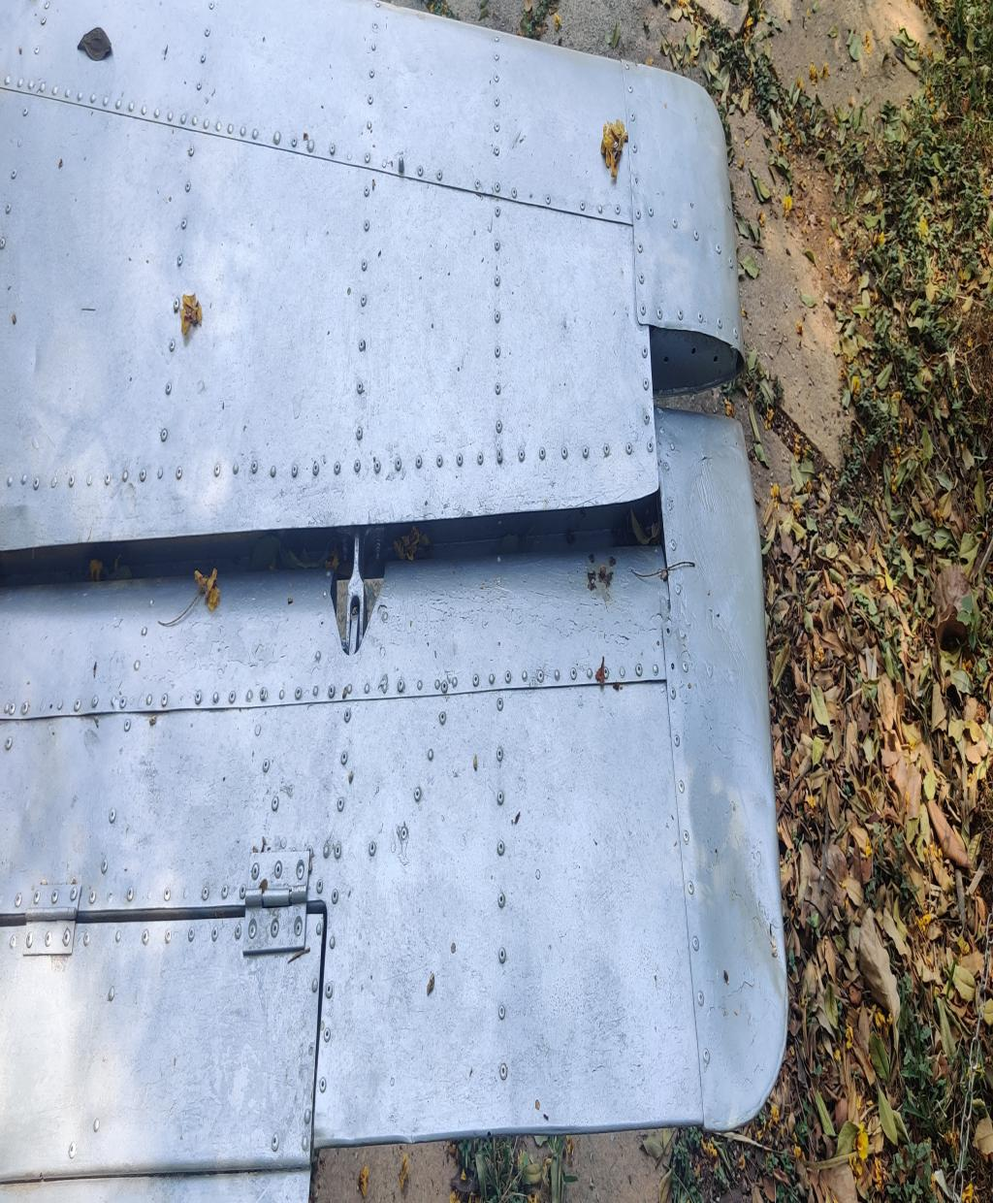dent: (685, 759, 785, 1023)
